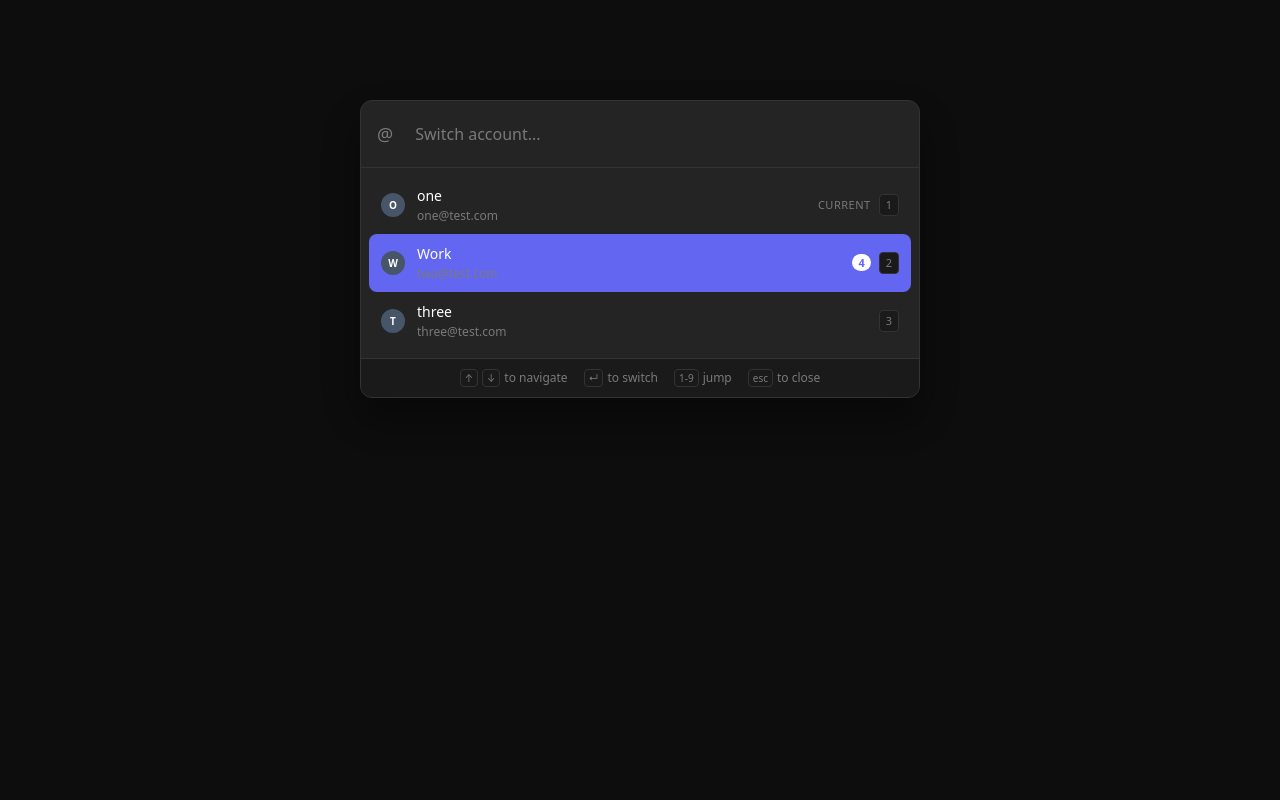
AccountSwitcher › shows an empty state when nothing matches
Type "nobody" into the field with placeholder "Switch account..." at (654, 134), box [405, 117, 903, 151]
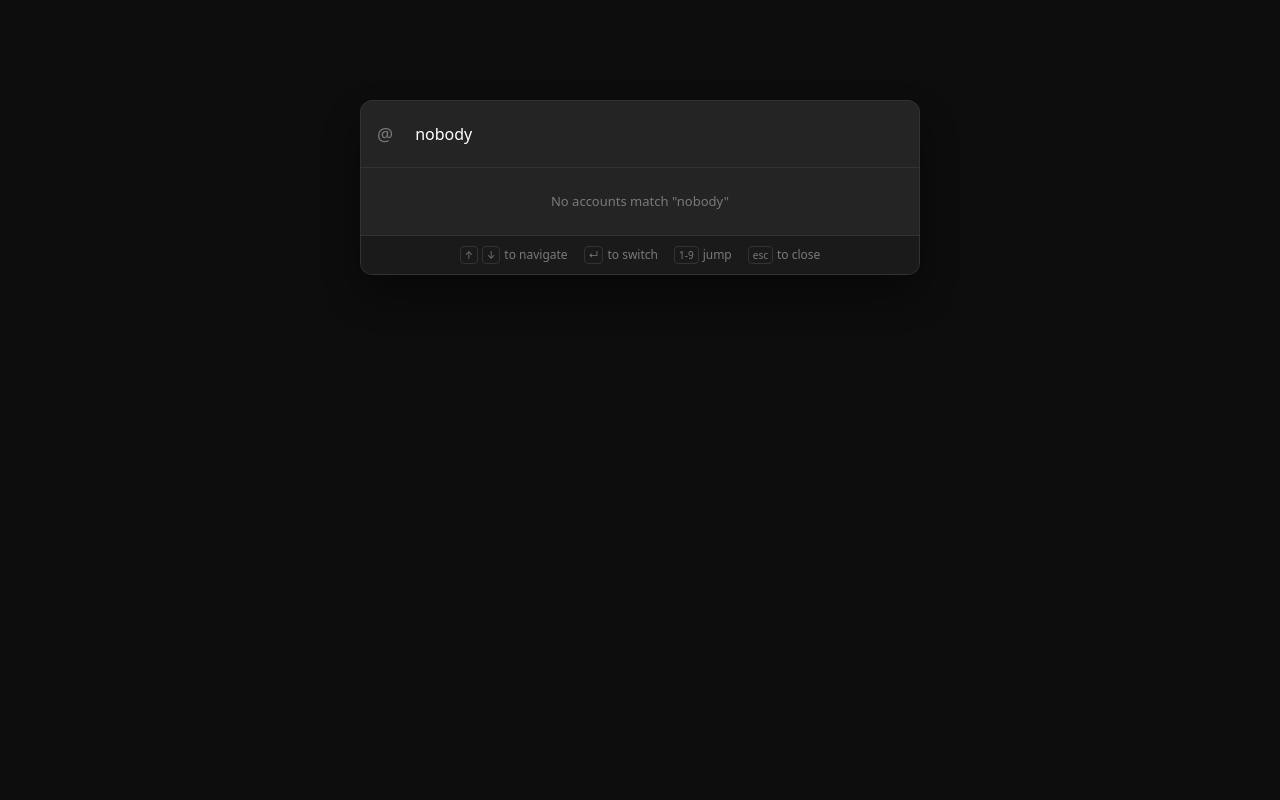
Expected: the text "No accounts match \"nobody\"" is shown, [551, 192, 729, 210]
